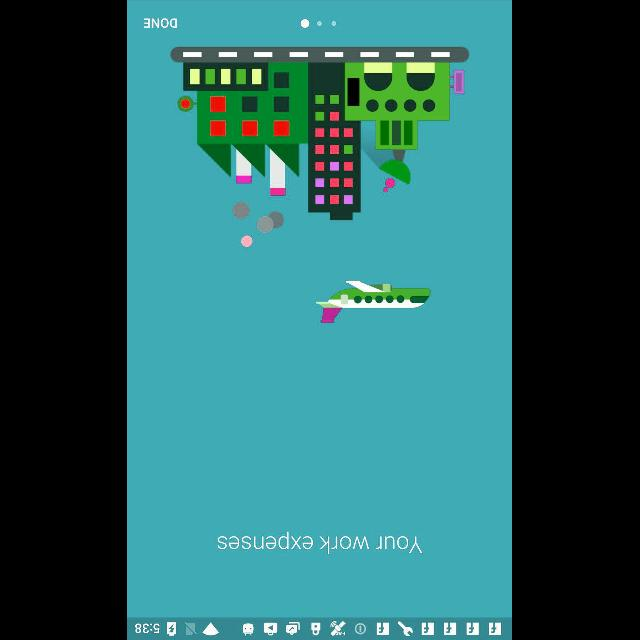image: (170, 46, 470, 248), (316, 280, 432, 322)
pageindicator: (300, 18, 338, 28)
text: (218, 530, 424, 554), (144, 17, 178, 28)
uppertaskbar: (128, 617, 512, 639)
